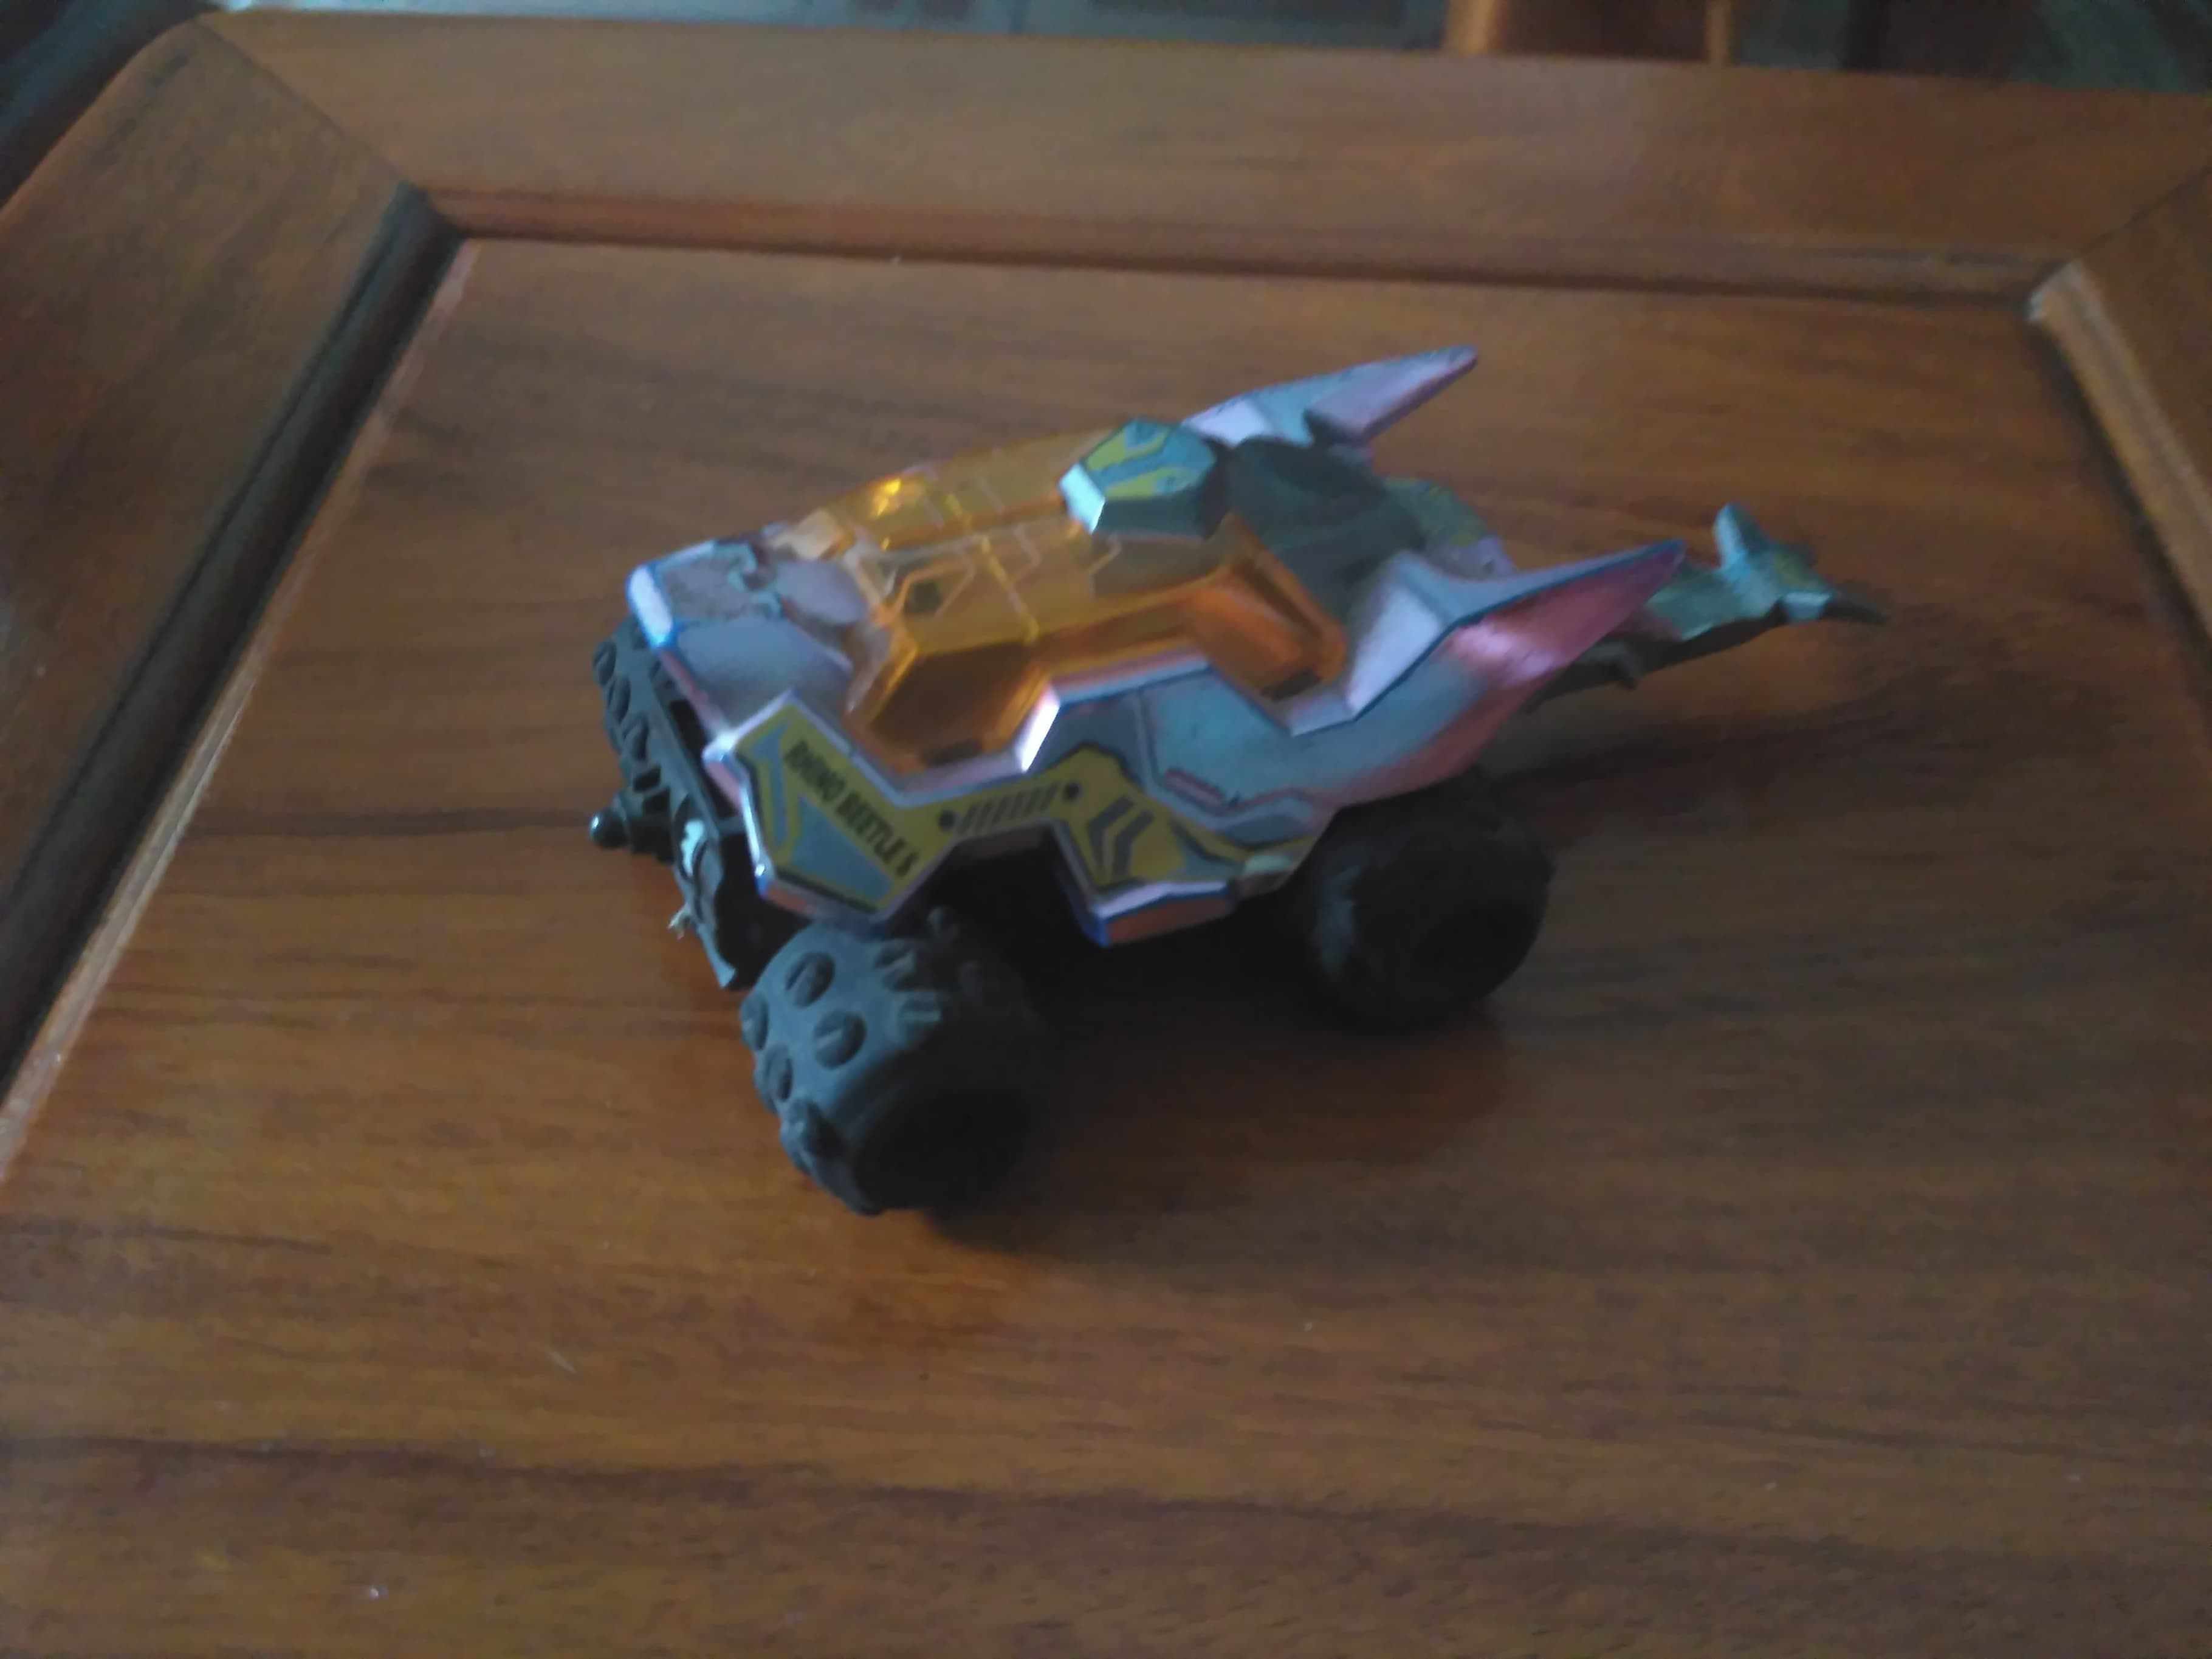rhino: (587, 342, 1904, 1227)
